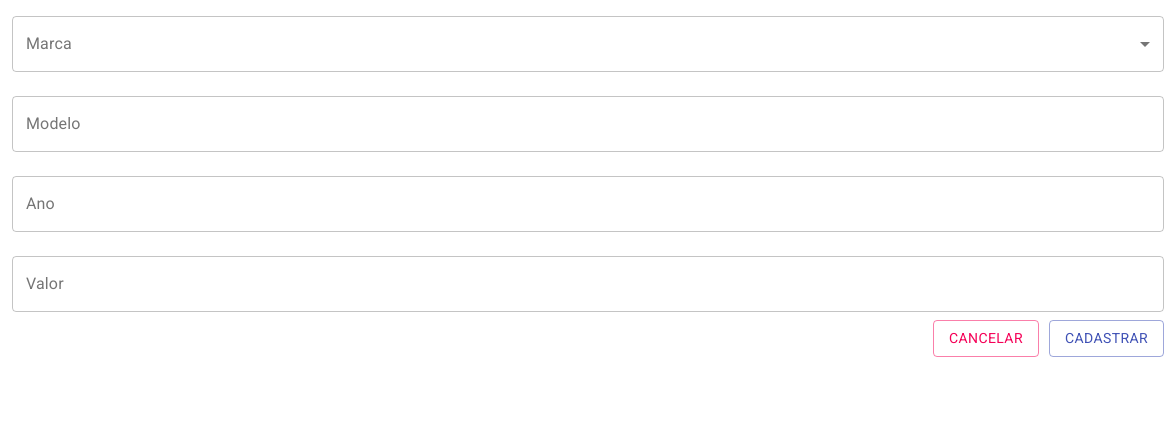
Test: <VehicleRegister /> › Should show error message when input model is invalid
The image size is (1176, 442).
Type "wo" into the field labelled "Modelo" at (588, 124), box [12,96,1164,152]
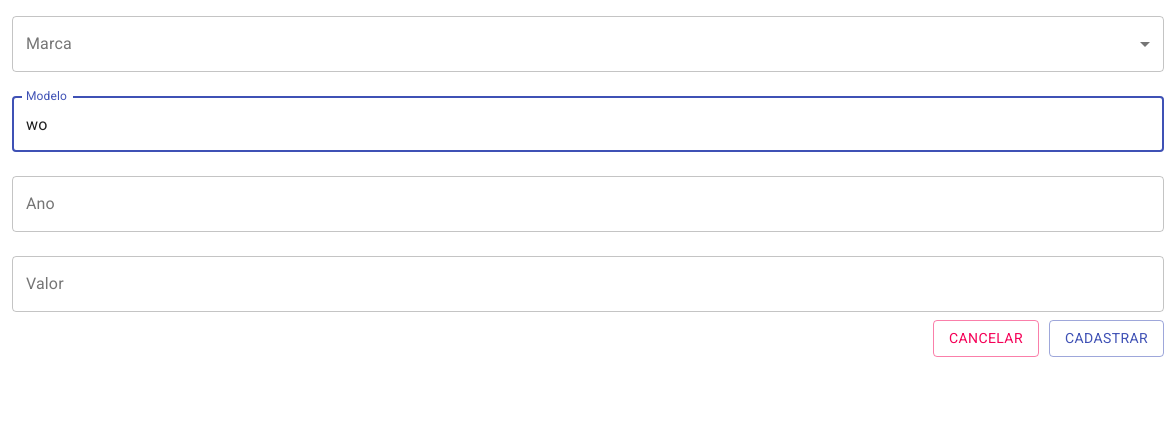
Click the button "Cadastrar" at (1106, 338), box [1049,320,1164,356]
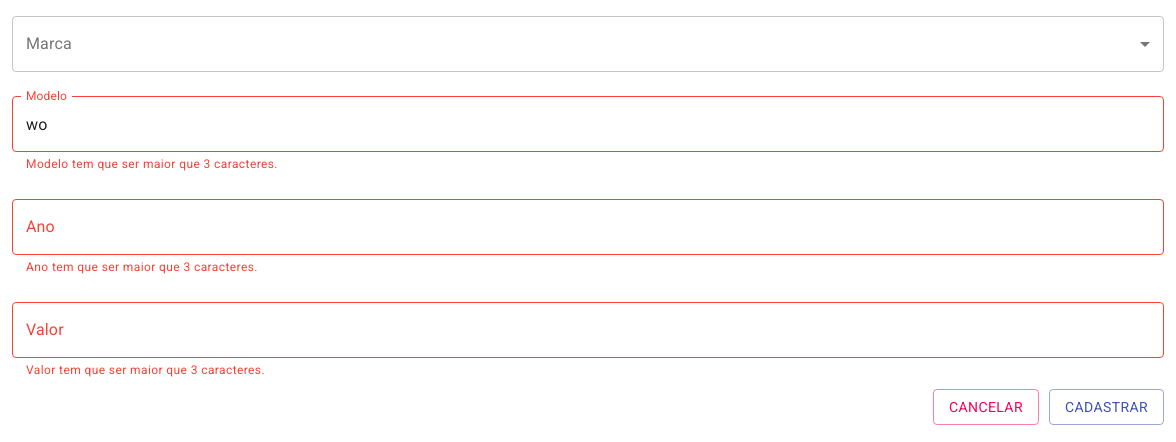
Check: the text "Modelo tem que ser maior que 3 caracteres." is shown, box [26,157,278,171]
